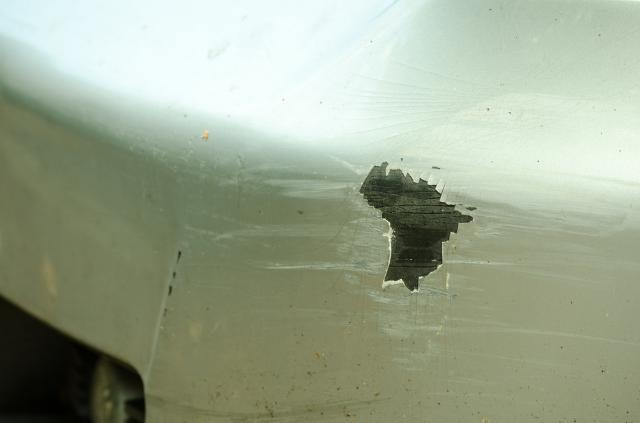scratch: (210, 146, 640, 374)
